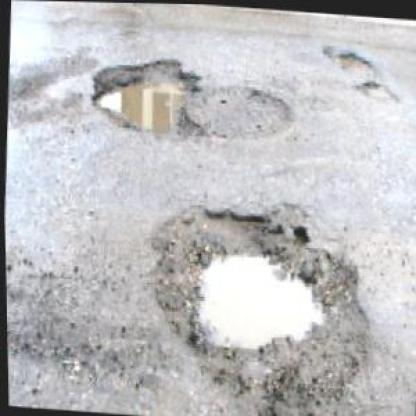pothole: (138, 192, 378, 414), (86, 48, 212, 138), (320, 38, 373, 78), (352, 75, 401, 102)
